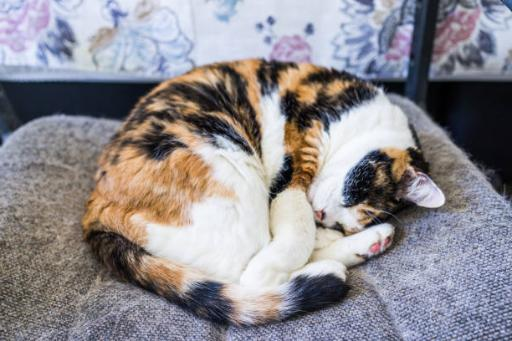cat_sleeping: (83, 59, 445, 325)
